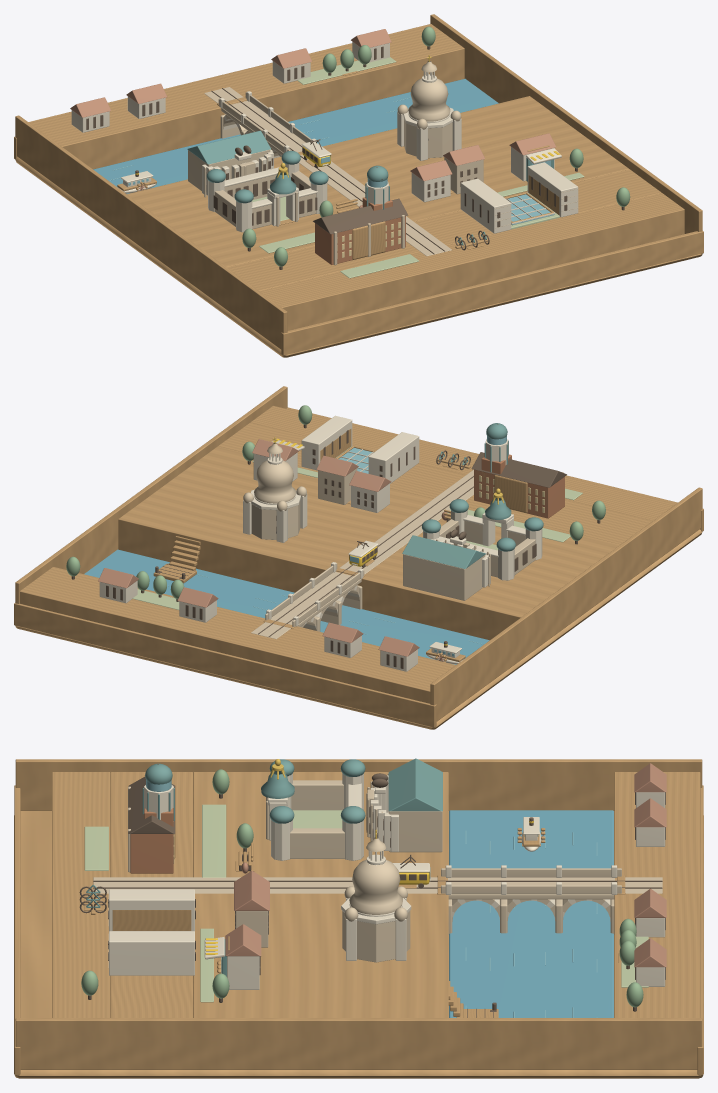
File: dresden-river-campus.glb
The picture shows the model from 3 angles, top to bottom: view 1: azimuth 30°, elevation 25°; view 2: azimuth 150°, elevation 25°; view 3: azimuth 270°, elevation 25°; orthographic projection. The views are drawn at different scales.
Parts seen in each view (by area): view 1: fixed_world_Ash / fine original grain, Blue river inlay, piece_augustus_bridge_Warm sandstone, fixed_world_Pale meadow, fixed_world_Warm sandstone, Stone library block, piece_zwinger_galleries_Carved pale stone, piece_zwinger_galleries_Warm sandstone, piece_beyer_body_Beyer brick, piece_frauenkirche_dome_Warm sandstone, Steep Beyer roof, piece_frauenkirche_body_Warm sandstone (+20 smaller); view 2: fixed_world_Ash / fine original grain, Blue river inlay, piece_augustus_bridge_Warm sandstone, fixed_world_Warm sandstone, piece_semperoper_Warm sandstone, piece_beyer_body_Beyer brick, Stone library block, piece_frauenkirche_dome_Warm sandstone, piece_zwinger_galleries_Carved pale stone, Opera stage roof, piece_frauenkirche_body_Warm sandstone, Stone library block.001 (+14 smaller); view 3: fixed_world_Ash / fine original grain, Blue river inlay, piece_augustus_bridge_Warm sandstone, fixed_world_Pale meadow, fixed_world_Warm sandstone, Stone library block.001, piece_zwinger_galleries_Warm sandstone, Opera stage roof, piece_frauenkirche_dome_Warm sandstone, piece_frauenkirche_body_Warm sandstone, piece_semperoper_Warm sandstone, piece_zwinger_galleries_Carved pale stone (+26 smaller).
Part boxes in pixels (x1,y1,x2,y2): fixed_world_Ash / fine original grain: (14, 14, 703, 357); Blue river inlay: (93, 78, 498, 193); piece_augustus_bridge_Warm sandstone: (218, 92, 311, 156); fixed_world_Pale meadow: (259, 57, 584, 278); fixed_world_Warm sandstone: (204, 87, 451, 256); Stone library block: (460, 178, 511, 233); piece_zwinger_galleries_Carved pale stone: (208, 162, 327, 232); piece_zwinger_galleries_Warm sandstone: (214, 171, 316, 229); piece_beyer_body_Beyer brick: (315, 197, 405, 264); piece_frauenkirche_dome_Warm sandstone: (408, 61, 450, 121); Steep Beyer roof: (313, 198, 408, 234); piece_frauenkirche_body_Warm sandstone: (397, 104, 461, 158); fixed_world_Ash / fine original grain: (14, 386, 703, 729); Blue river inlay: (84, 549, 489, 664); piece_augustus_bridge_Warm sandstone: (265, 563, 364, 631); fixed_world_Warm sandstone: (251, 470, 473, 639); piece_semperoper_Warm sandstone: (403, 539, 490, 600); piece_beyer_body_Beyer brick: (474, 454, 564, 518); Stone library block: (368, 432, 419, 483); piece_frauenkirche_dome_Warm sandstone: (254, 442, 295, 503); piece_zwinger_galleries_Carved pale stone: (423, 510, 542, 580); Opera stage roof: (402, 535, 485, 568); piece_frauenkirche_body_Warm sandstone: (243, 486, 306, 539); Stone library block.001: (301, 415, 352, 470); fixed_world_Ash / fine original grain: (14, 759, 703, 1078); Blue river inlay: (449, 810, 613, 1017); piece_augustus_bridge_Warm sandstone: (441, 868, 621, 934); fixed_world_Pale meadow: (84, 804, 648, 1002); fixed_world_Warm sandstone: (93, 877, 662, 893); Stone library block.001: (109, 931, 194, 975); piece_zwinger_galleries_Warm sandstone: (290, 780, 344, 858); Opera stage roof: (388, 758, 442, 811); piece_frauenkirche_dome_Warm sandstone: (349, 837, 402, 914); piece_frauenkirche_body_Warm sandstone: (342, 886, 410, 962); piece_semperoper_Warm sandstone: (366, 773, 442, 852); piece_zwinger_galleries_Carved pale stone: (271, 773, 363, 860).
Bounding box in the file's own units: 18 × 5.36 × 20.
Materials: 15 (1 with a texture image).
